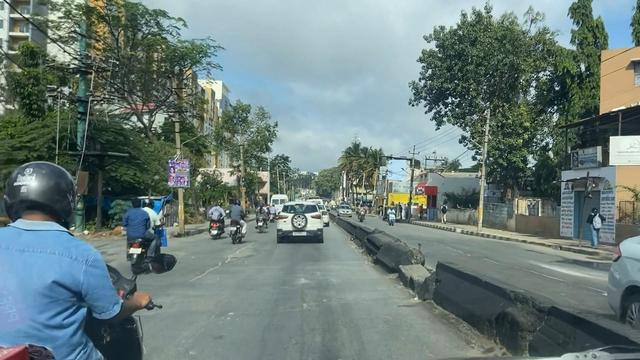LMV: (128, 200, 166, 271), (275, 202, 321, 242), (228, 201, 246, 238), (207, 202, 224, 235)
RoadDamages: (196, 244, 248, 287)
UnsurfacedRoad: (294, 267, 322, 318)
